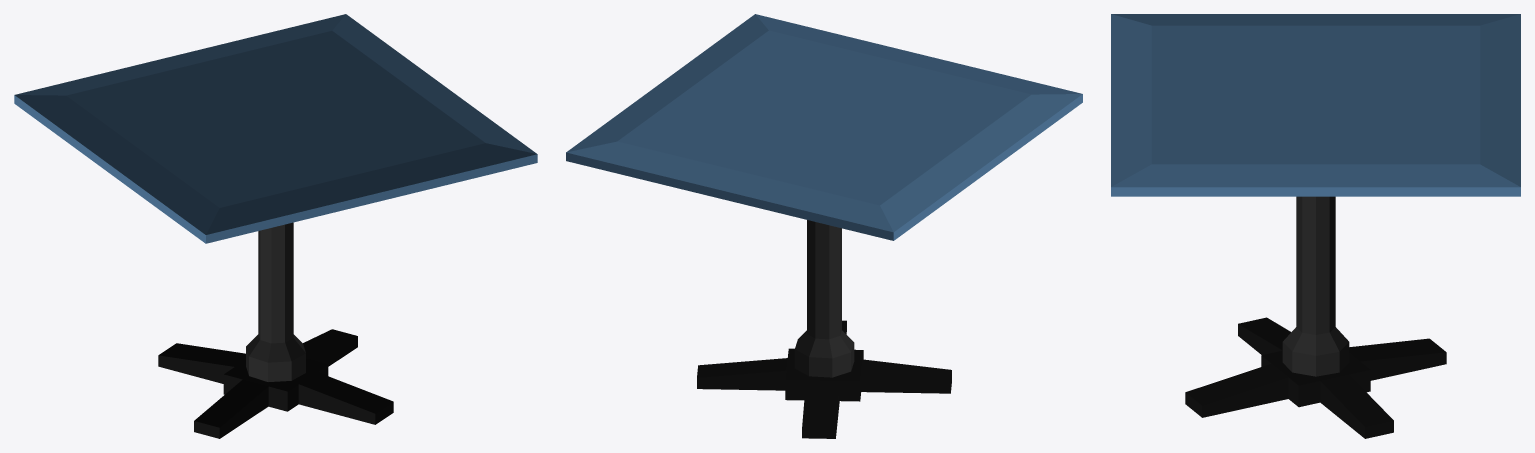
Rendered from Table 3.fbx.
The picture shows the model from 3 angles, left to right: view 1: azimuth 30°, elevation 25°; view 2: azimuth 150°, elevation 25°; view 3: azimuth 270°, elevation 25°; orthographic projection. The views are drawn at different scales.
Parts seen in each view (by area): view 1: Node 0; view 2: Node 0; view 3: Node 0.
Boxes of the visible parts, bbox=[...] form: Node 0: bbox=[14, 14, 537, 438]; Node 0: bbox=[566, 14, 1082, 438]; Node 0: bbox=[1111, 14, 1520, 438].
Size of the model in its own units: 1 by 0.7824 by 1.
